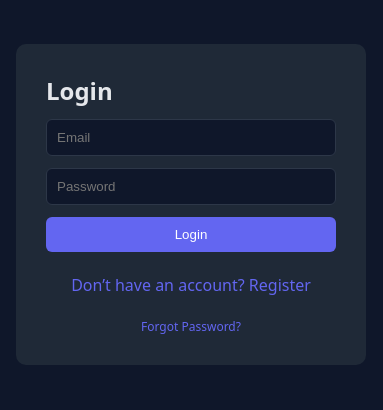
Test: Login Component › Form Validation › should show error when password is less than 6 characters
Type "test@example.com" into the field with placeholder "Email".
click(191, 137); type("test@example.com")  # box [46,118,336,156]
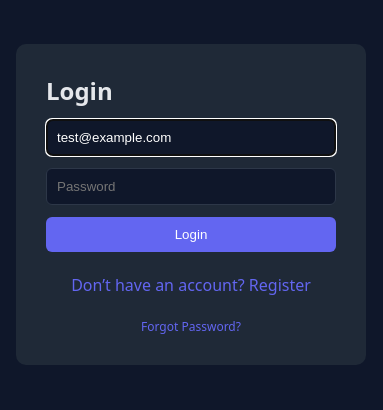
Type "pass" into the password field with placeholder "Password".
click(191, 186); type("pass")  # box [46,168,336,204]
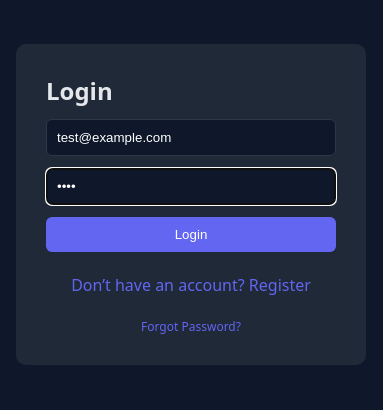
Click the button "Login".
click(191, 234)  # box [46,216,336,252]
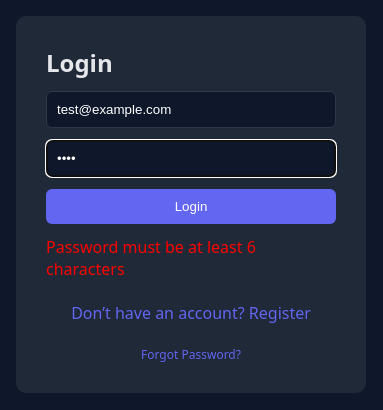
Check: the text "Password must be at least 6 characters" is shown, box [46,236,256,280]
